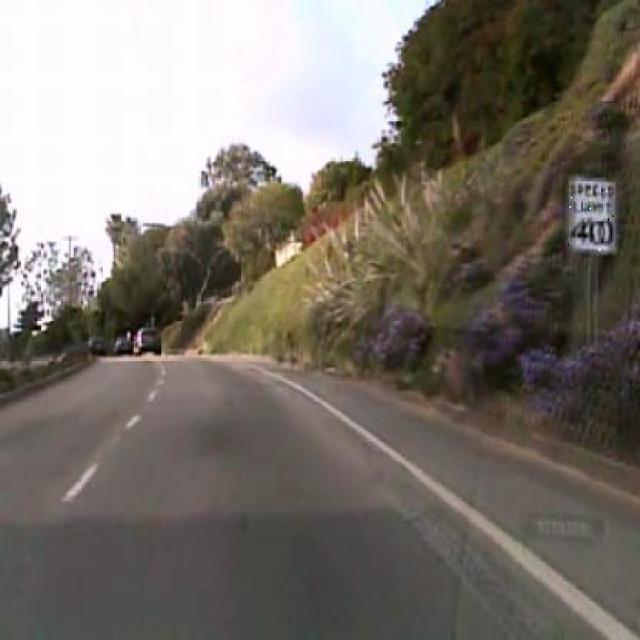speedLimit40: (568, 176, 616, 253)
